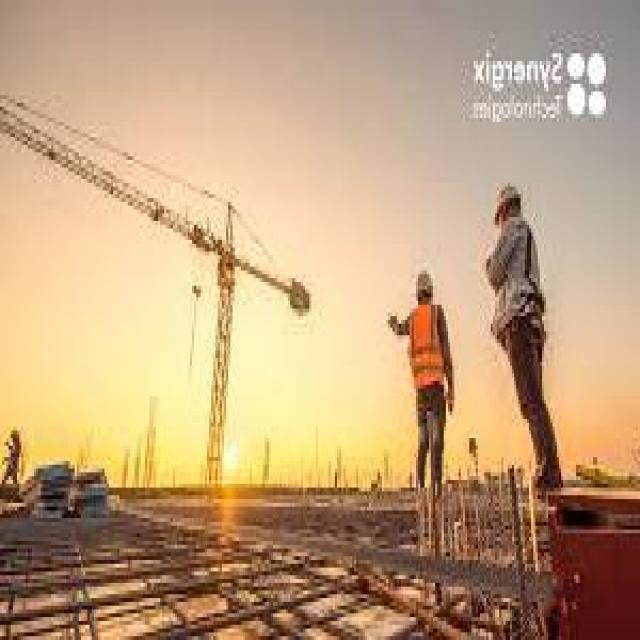Reflective-Jacket: (488, 221, 550, 343), (403, 301, 452, 408)
Safety-Helmet: (488, 171, 527, 225), (410, 259, 440, 305)
